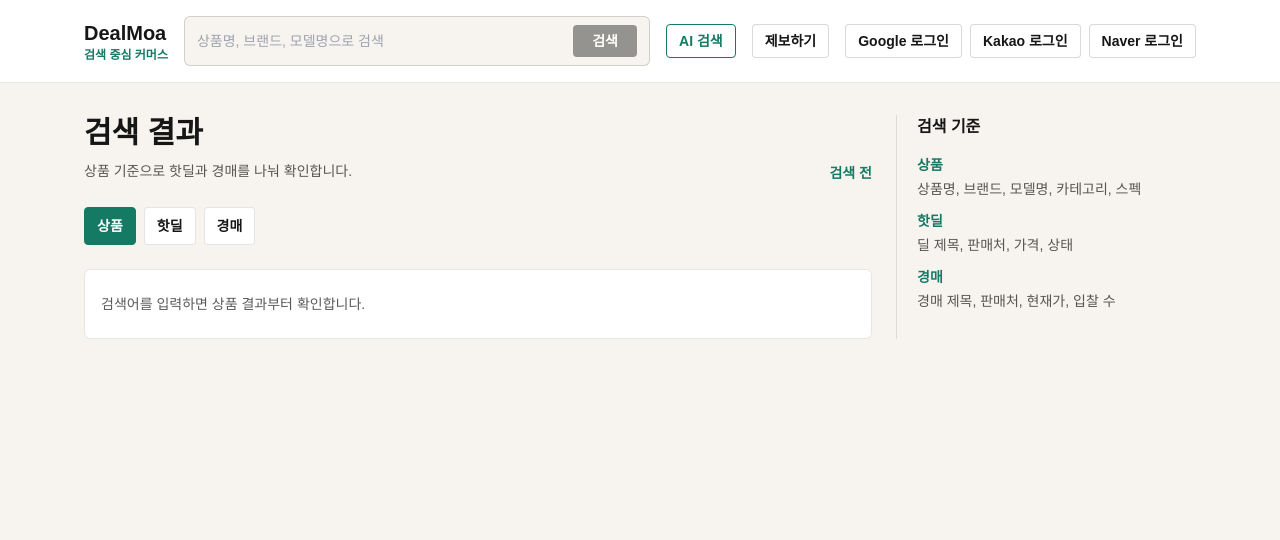
Test: SearchWorkspace › runs AI search and renders grouped candidates
expect the button "Google 로그인" is shown: met, box [845,24,962,58]
In the search field named "검색어": [385, 41] box [197,31,573,51], type "galaxy 100만원 이하 핫딜"
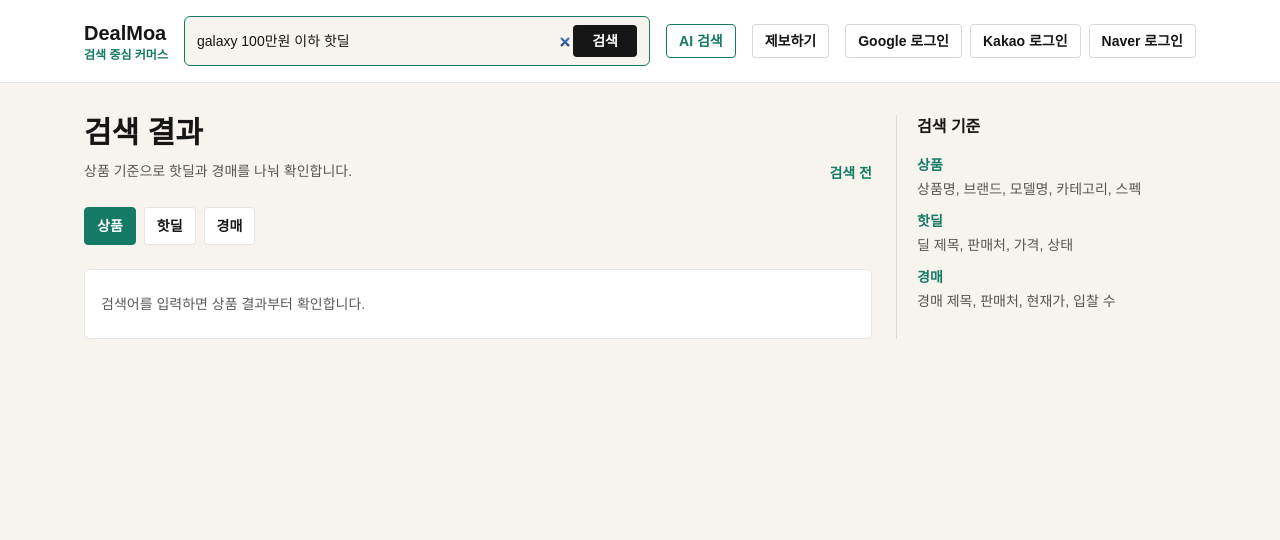
Click the button "AI 검색": [701, 41] box [666,24,736,58]
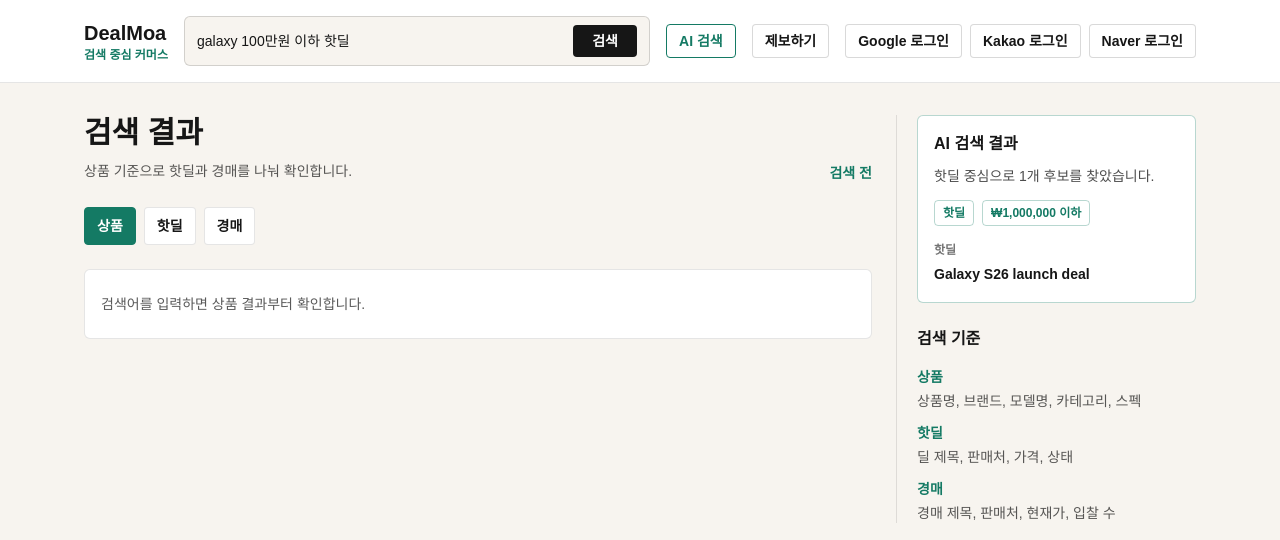
expect the heading "AI 검색 결과" is shown: met, box [934,135,1018,152]
expect the text "핫딜 중심으로 1개 후보를 찾았습니다." is shown: met, box [934,164,1179,188]
